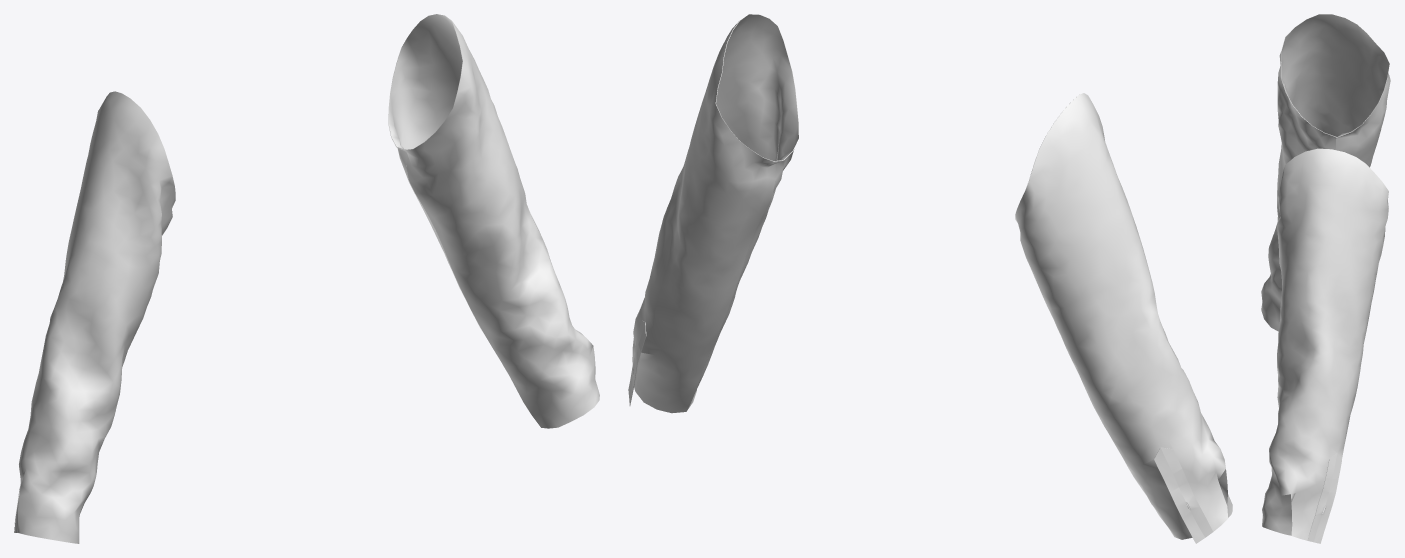
The model's file is sleev.glb.
The picture shows the model from 3 angles, left to right: view 1: azimuth 30°, elevation 25°; view 2: azimuth 150°, elevation 25°; view 3: azimuth 270°, elevation 25°; orthographic projection. The views are drawn at different scales.
Parts seen in each view (by area): view 1: Sleeves_Node, Sleeves_1_Node; view 2: Sleeves_1_Node, Sleeves_Node, Sleeves_Placket_1_Node; view 3: Sleeves_Node, Sleeves_1_Node, Sleeves_Placket_Node.
Part boxes in pixels (x1,y1,x2,y2): Sleeves_Node: (388, 14, 599, 428); Sleeves_1_Node: (14, 91, 175, 543); Sleeves_1_Node: (1015, 93, 1232, 539); Sleeves_Node: (632, 14, 799, 413); Sleeves_Placket_1_Node: (1154, 447, 1212, 543); Sleeves_Node: (1262, 148, 1388, 540); Sleeves_1_Node: (1261, 14, 1390, 331); Sleeves_Placket_Node: (1307, 453, 1341, 543).
Size of the model in its own units: 0.7938 by 0.5454 by 0.1804.
1 material, 1 textured.
